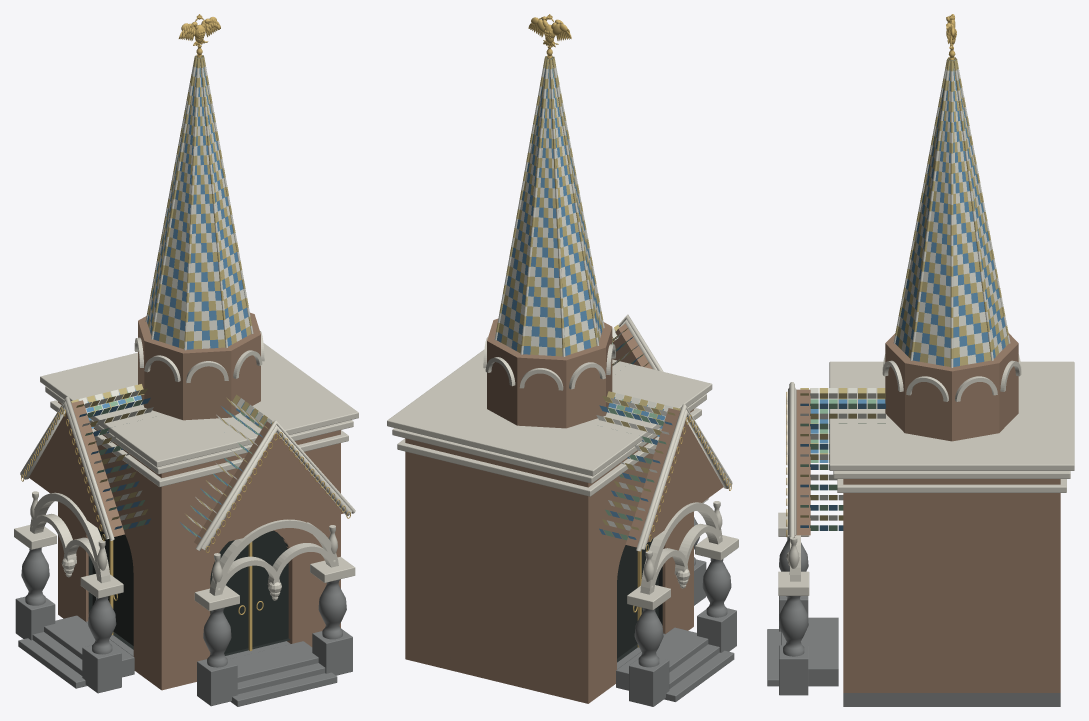
The model's file is porch.draco.glb.
The picture shows the model from 3 angles, left to right: view 1: azimuth 30°, elevation 25°; view 2: azimuth 150°, elevation 25°; view 3: azimuth 270°, elevation 25°; orthographic projection. The views are drawn at different scales.
Visible parts, largest first — view 1: Porch_brick, Porch_stone, Porch_granite, Porch_ochre, Porch_white, Porch_dark, Porch_blue, Porch_gold, Porch_green; view 2: Porch_brick, Porch_stone, Porch_ochre, Porch_granite, Porch_white, Porch_blue, Porch_dark, Porch_gold, Porch_green; view 3: Porch_brick, Porch_stone, Porch_ochre, Porch_white, Porch_granite, Porch_blue, Porch_green, Porch_gold.
Boxes of the visible parts, x1,y1,x2,y2 form: Porch_brick: (29,312,343,690); Porch_stone: (14,331,358,611); Porch_granite: (15,547,352,706); Porch_ochre: (71,55,273,530); Porch_white: (79,56,272,527); Porch_dark: (88,528,290,655); Porch_blue: (79,56,271,538); Porch_gold: (21,14,350,651); Porch_green: (85,391,267,536); Porch_brick: (405,318,723,703); Porch_stone: (387,314,738,610); Porch_ochre: (496,56,680,530); Porch_granite: (616,517,736,706); Porch_white: (494,58,672,530); Porch_blue: (497,57,672,539); Porch_dark: (542,19,662,662); Porch_gold: (528,14,731,647); Porch_green: (604,340,666,540); Porch_brick: (795,333,1060,692); Porch_stone: (778,354,1074,595); Porch_ochre: (800,57,1008,520); Porch_white: (800,59,1010,520); Porch_granite: (767,537,1060,706); Porch_blue: (800,60,1005,530); Porch_green: (800,399,885,530); Porch_gold: (786,14,956,536).
Size of the model in its own units: 9.9 by 22.99 by 9.9.
